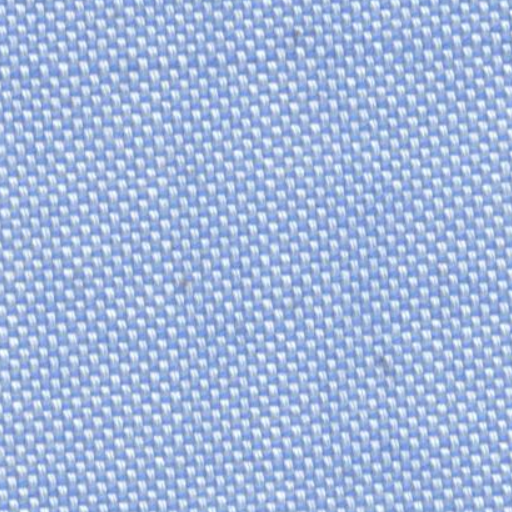TuoSha: (20, 24, 492, 108)
